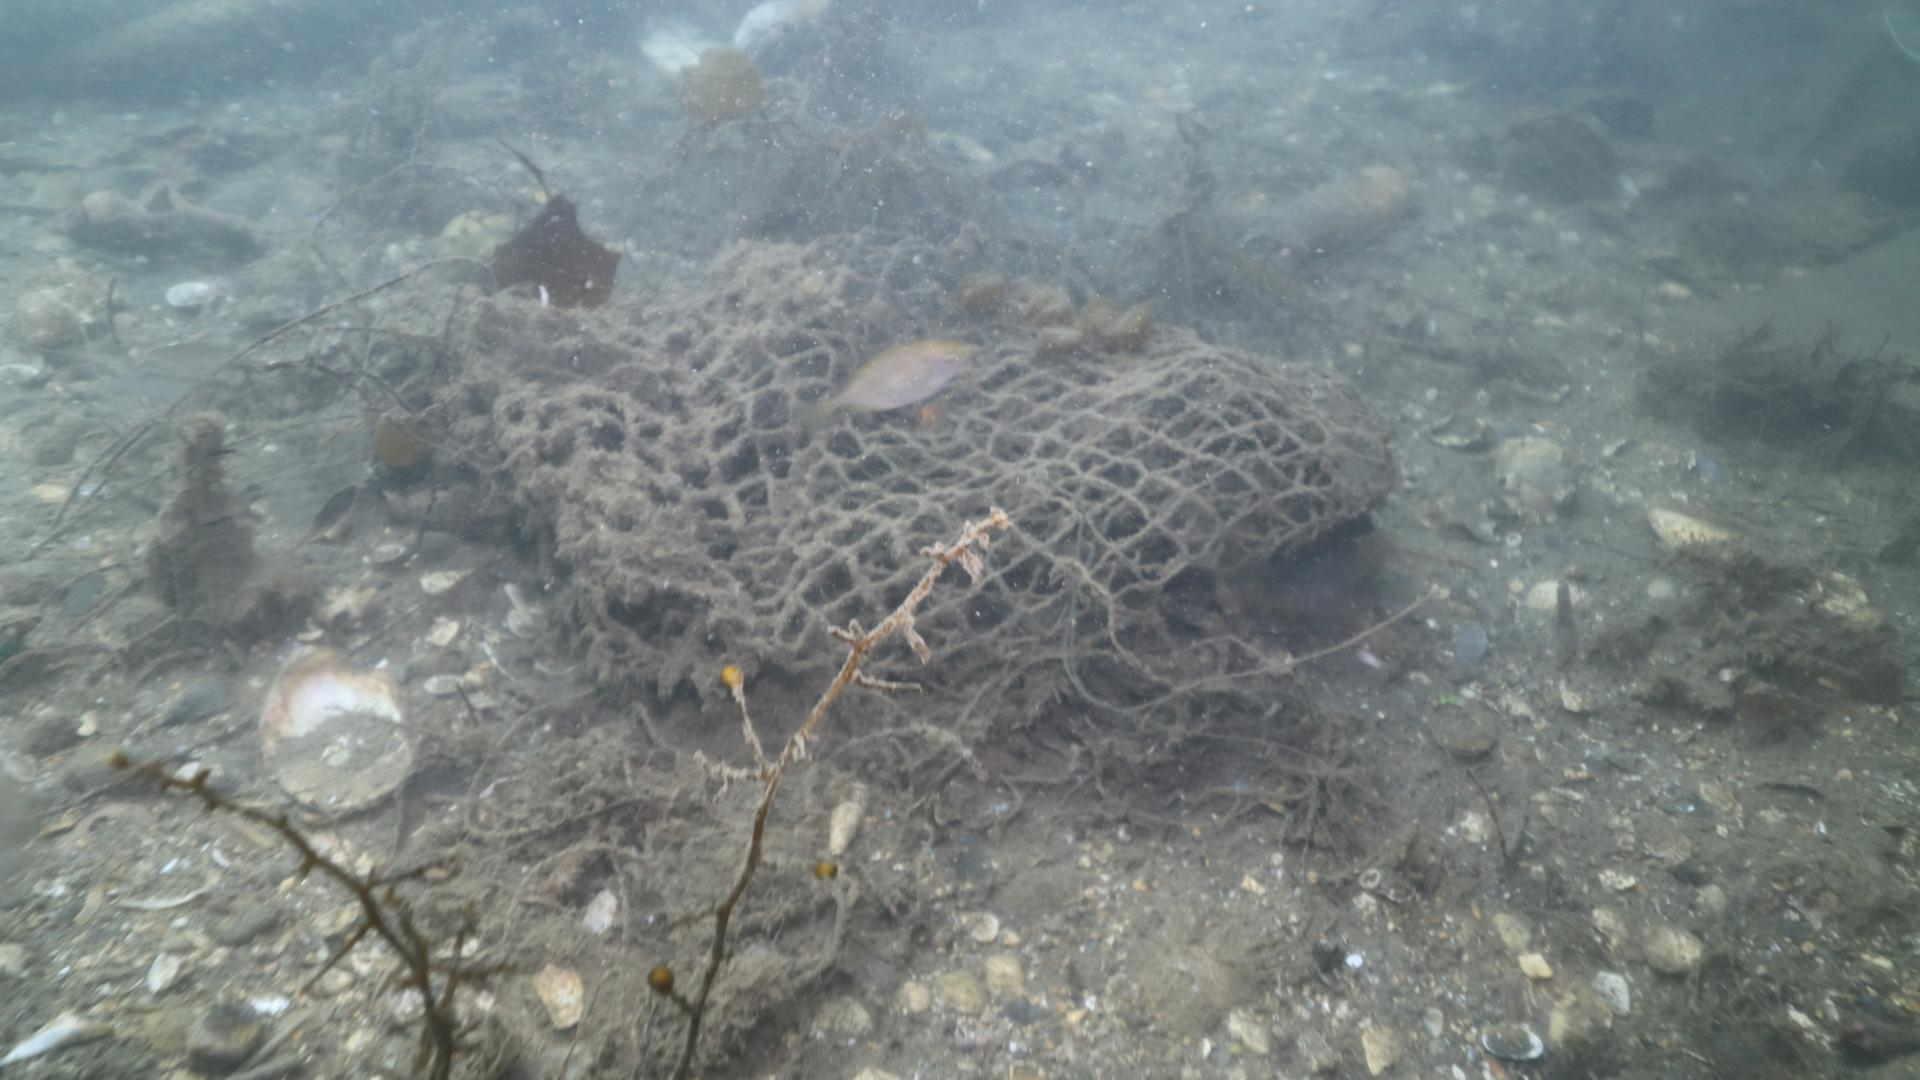fish net: (451, 222, 1395, 669)
